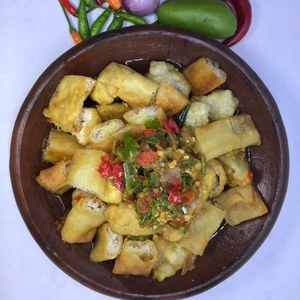tahu_gejrot: (36, 57, 269, 283)
